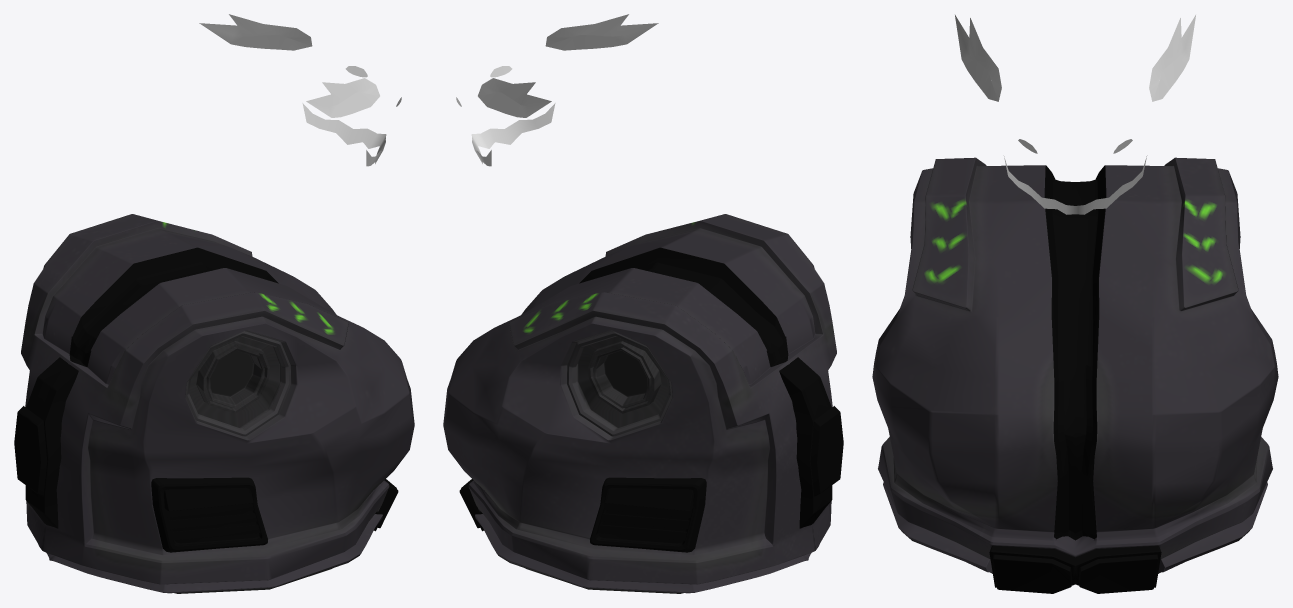
The model's file is AS_DiagF_MOuthSS.fbx.
The picture shows the model from 3 angles, left to right: view 1: azimuth 30°, elevation 25°; view 2: azimuth 150°, elevation 25°; view 3: azimuth 270°, elevation 25°; orthographic projection. The views are drawn at different scales.
Parts seen in each view (by area): view 1: Chest_armor, Face; view 2: Chest_armor, Face; view 3: Chest_armor, Face.
Part boxes in pixels (<box>): Chest_armor: <box>14,214,414,593</box>; Face: <box>199,14,401,166</box>; Chest_armor: <box>443,214,843,593</box>; Face: <box>456,14,658,166</box>; Chest_armor: <box>872,157,1278,593</box>; Face: <box>955,15,1195,214</box>.
Bounding box in the file's own units: 30.85 × 26.77 × 38.9.
